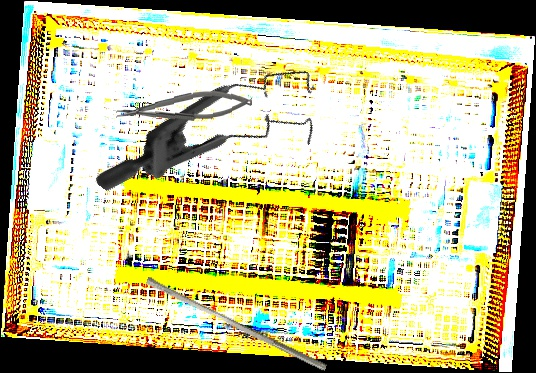Needle Holder: (115, 88, 253, 125)
Pusher: (142, 276, 331, 372)
Speculum: (93, 7, 343, 272)
